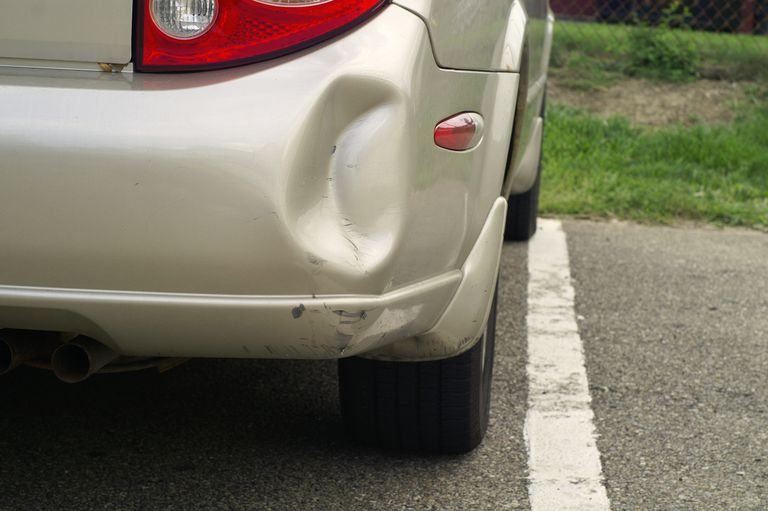car_dent: (282, 73, 427, 276)
